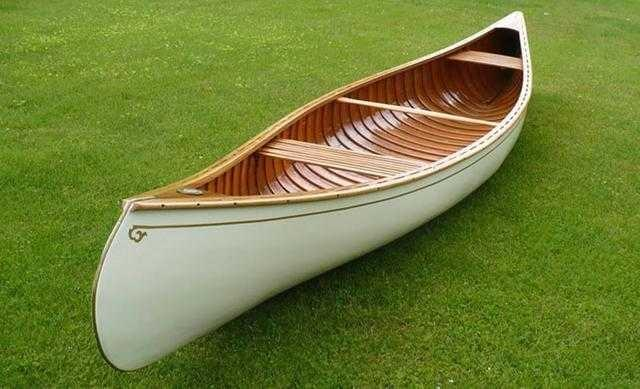kayak: (91, 13, 535, 372)
